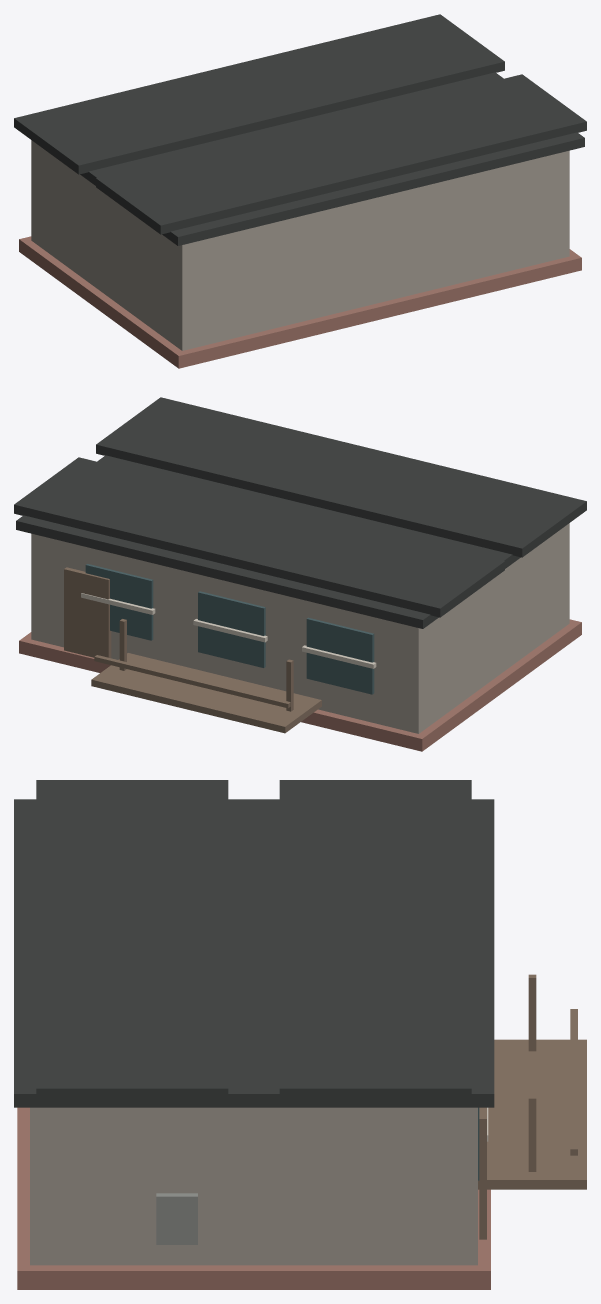
The model's file is house_03.glb.
3 renders of one model, top to bottom at view 1: azimuth 30°, elevation 25°; view 2: azimuth 150°, elevation 25°; view 3: azimuth 270°, elevation 25°, orthographic. The views are drawn at different scales.
Bounding box in the file's own units: 12.32 × 3.9 × 9.67.
